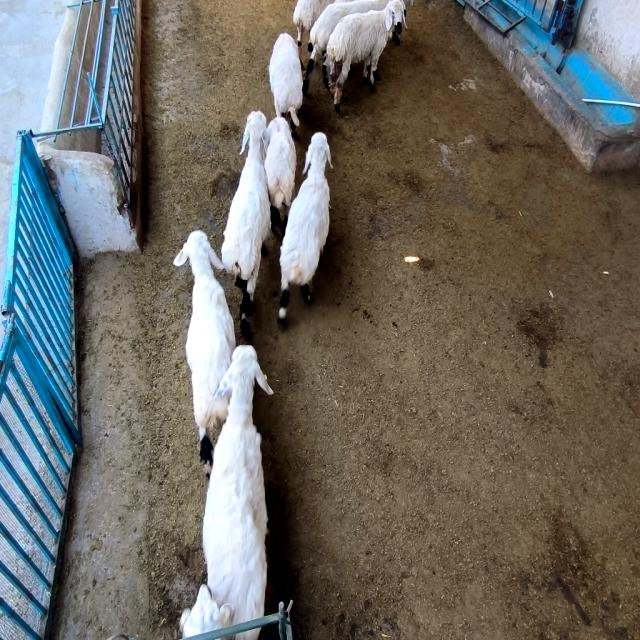sheep: (180, 345, 272, 638), (174, 230, 235, 471), (221, 112, 271, 337), (279, 132, 331, 321), (326, 0, 405, 111), (302, 0, 389, 94), (270, 33, 302, 126), (265, 117, 296, 209), (292, 0, 334, 46)
